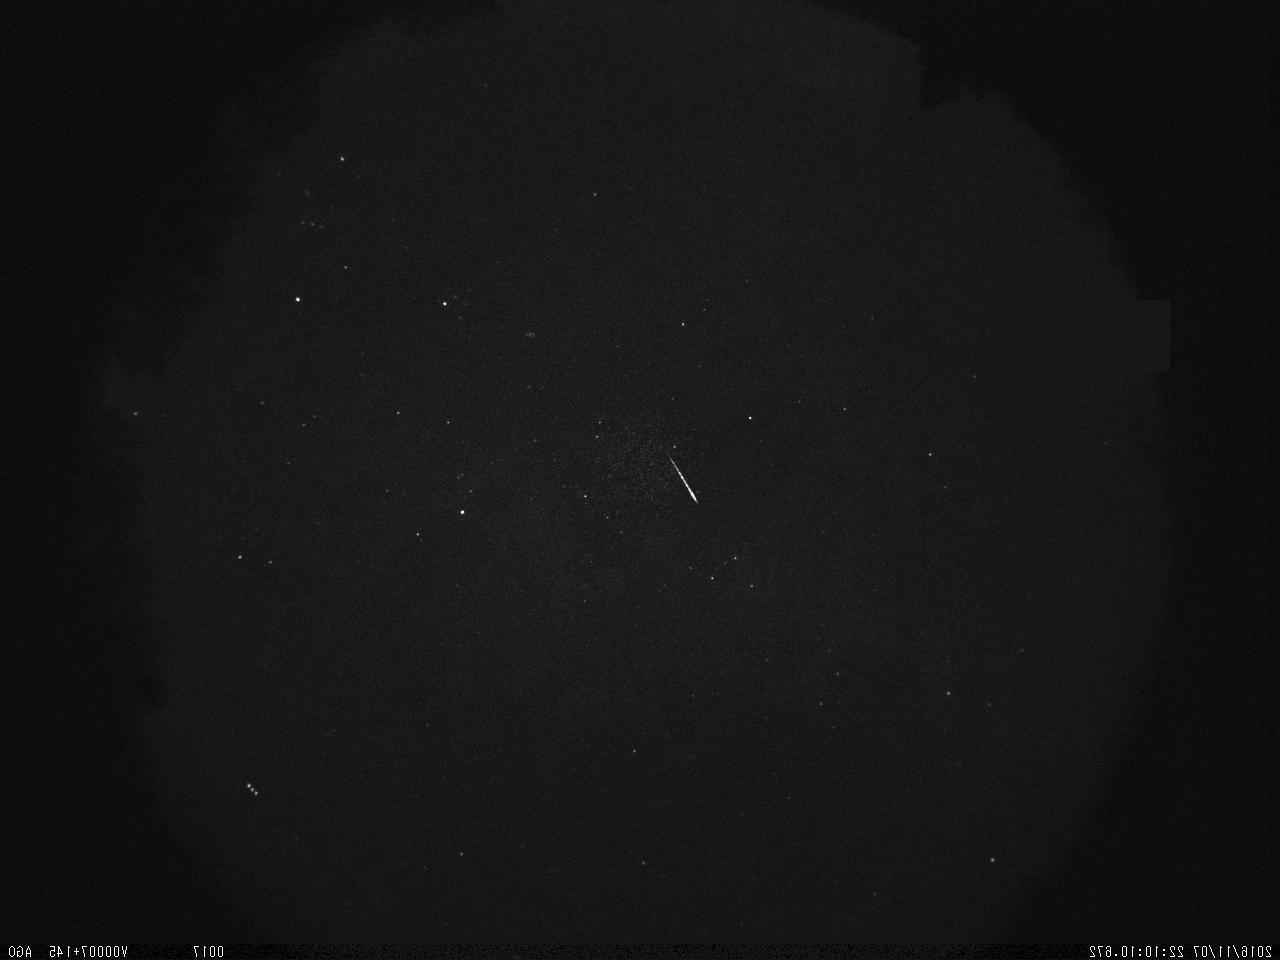meteor: (647, 435, 720, 520)
